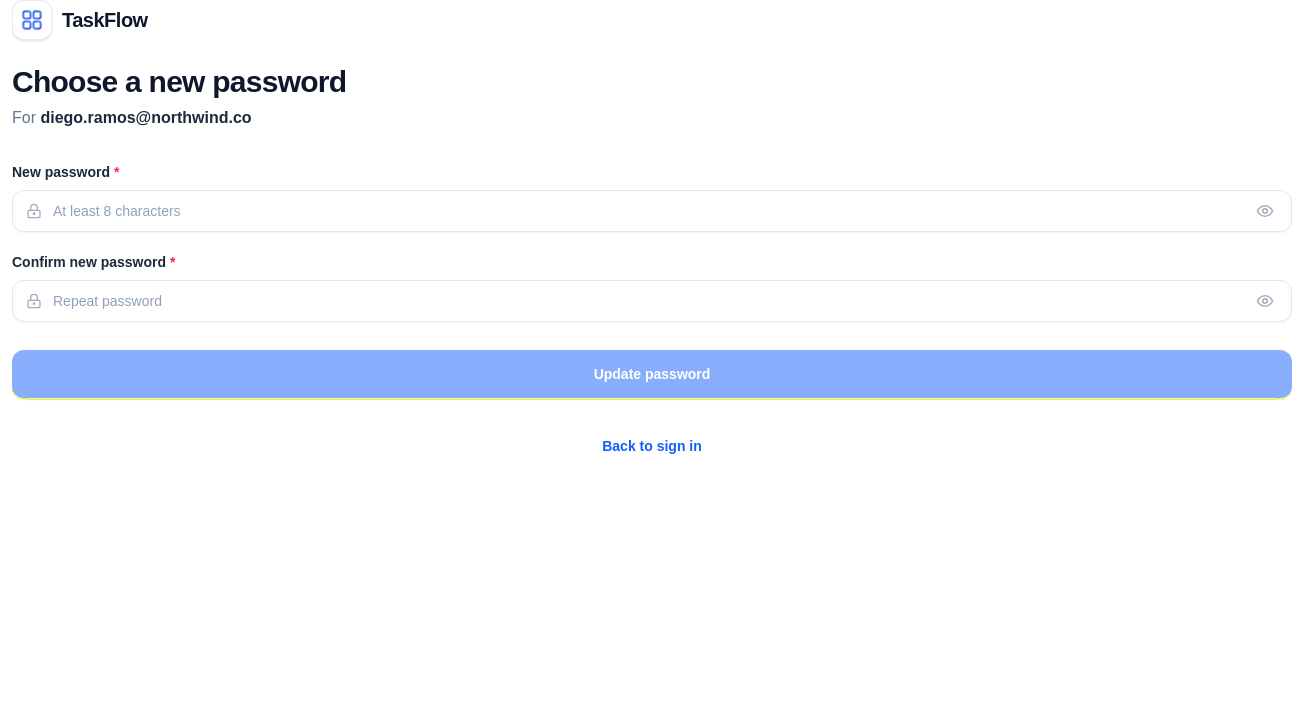
ResetPasswordForm Component › does NOT display "Request a new reset link" when error status is not 401 (e.g. 500 or standard Error)
In the password field with placeholder "At least 8 characters": (652, 211) [12,190,1292,232], type "NewStrongPassword@123"
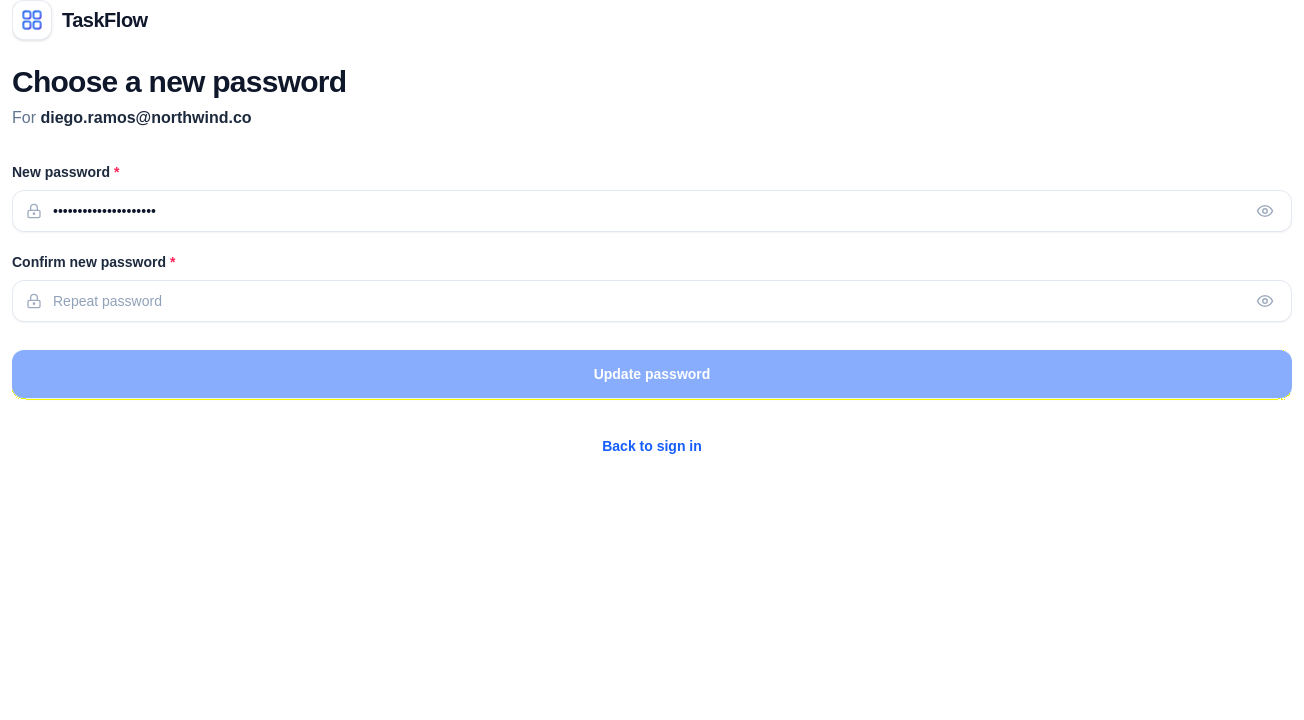
In the password field with placeholder "Repeat password": (652, 301) [12,280,1292,322], type "NewStrongPassword@123"
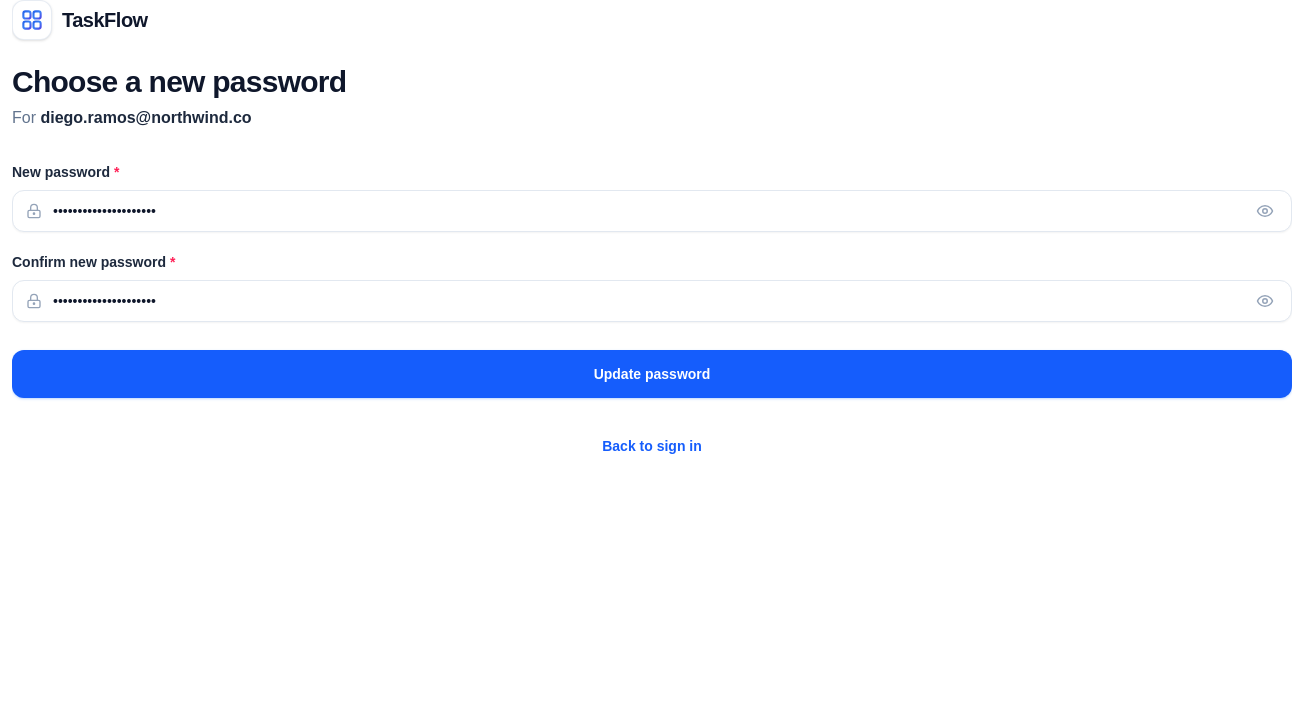
Expected: the button "Update password" is enabled
Click the button "Update password": (652, 374) [12,350,1292,398]
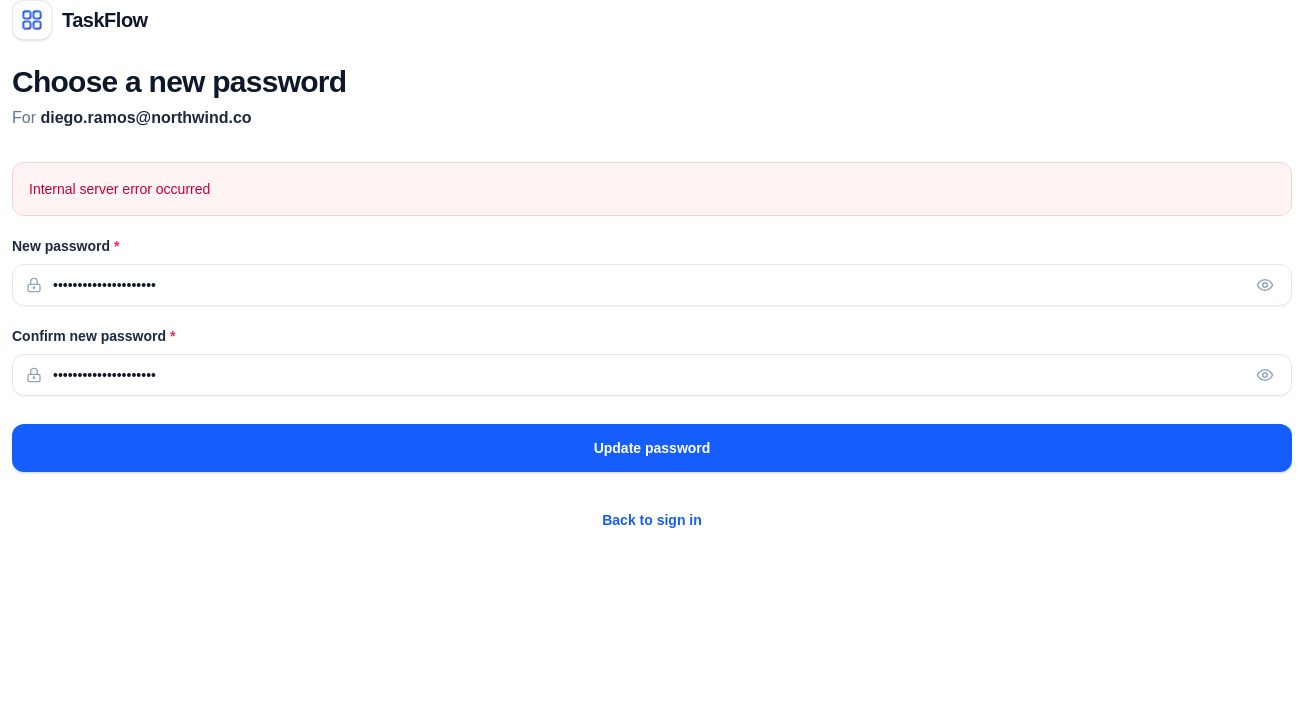
Expected: the message reads "Internal server error occurred", [29,181,210,197]
